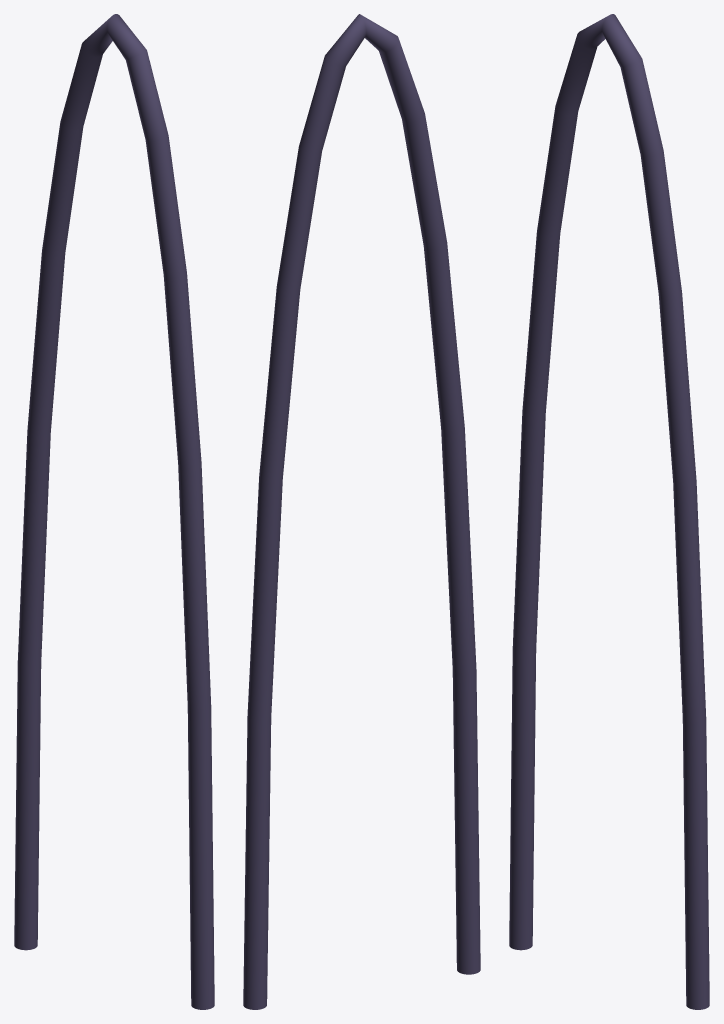
File: spike5.gltf
3 views of the same model, side by side, from view 1: azimuth 90°, elevation 25°; view 2: azimuth 150°, elevation 25°; view 3: azimuth 270°, elevation 25° (orthographic).
Visible parts, largest first — view 1: spike5; view 2: spike5; view 3: spike5.
Boxes of the visible parts, box(x1,y1,x2,y2) form: spike5: box(14, 14, 214, 1009); spike5: box(243, 14, 480, 1009); spike5: box(509, 14, 709, 1009).
Size of the model in its own units: 0.2184 by 1.4 by 0.2655.
